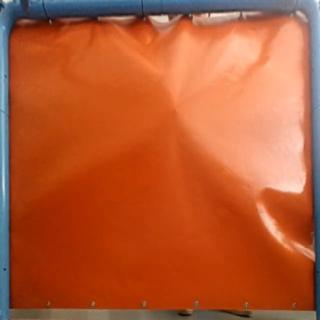Hit-hRxx: (166, 106, 184, 120)
